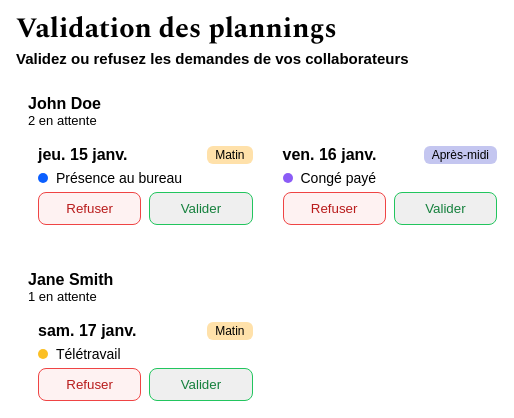
Test: ValidationPlanning Component › Request card is removed after successful approval
The image size is (514, 418).
Expected: the element with test id "request-card-101" is shown, [28, 136, 262, 235]
Click the button with test id "approve-button-101": (201, 208) [149, 192, 253, 225]
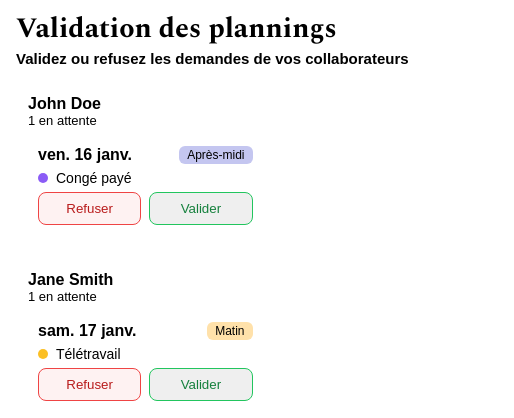
Expected: the element with test id "request-card-101" is gone
